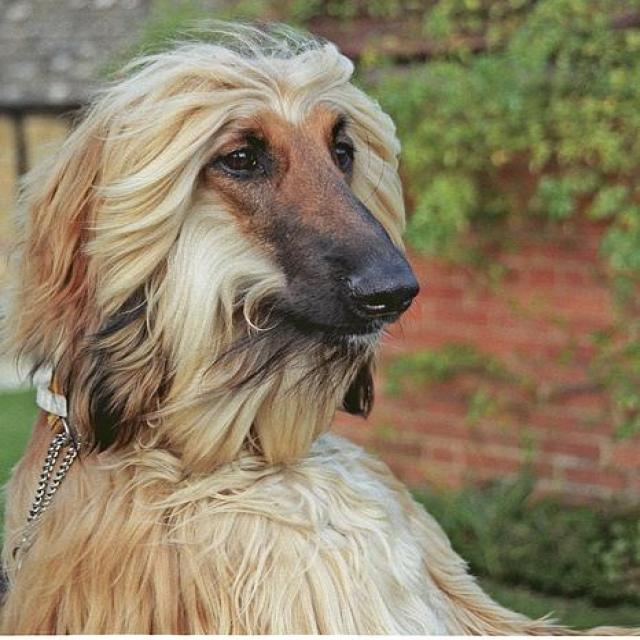afghan_hound: (0, 14, 637, 637)
